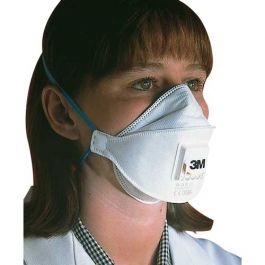with_mask: (83, 55, 204, 203)
